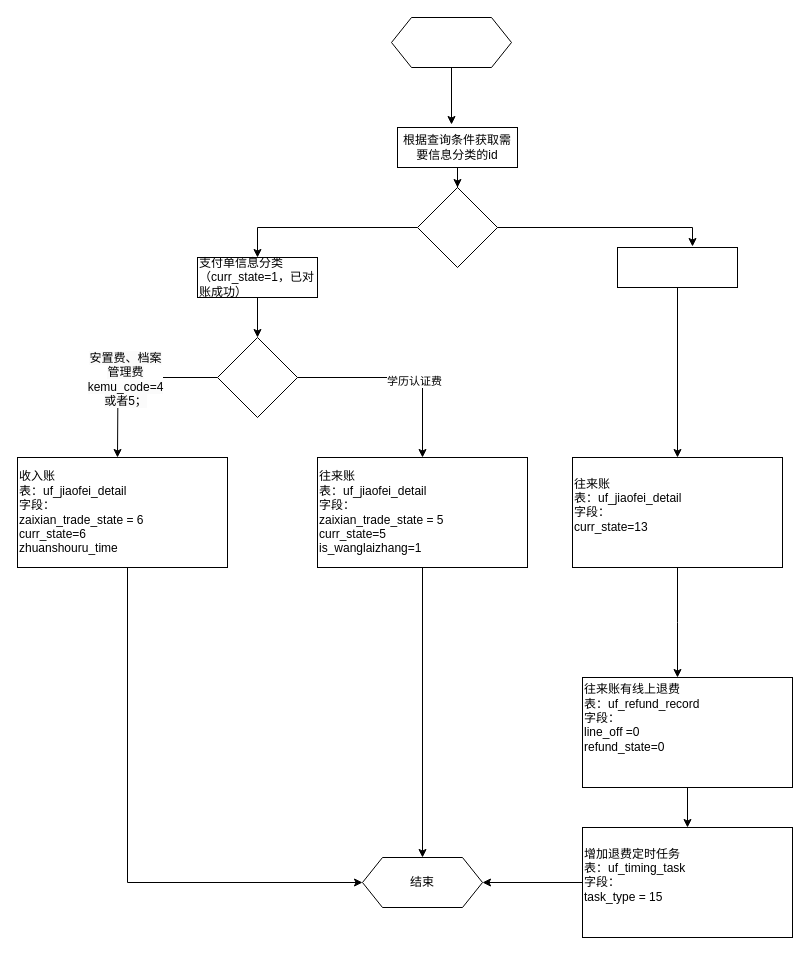
Some shapes in this 810 by 955 pixel diagram are drawn without their labels. Each missing label, with the box of its shape:
开始: (390, 16, 512, 68)
支付单当前对账状态: (416, 186, 498, 268)
支付单科目类型kemu_code: (216, 336, 298, 418)
退费信息分类（curr_state=10，退费对账成功）: (616, 246, 738, 288)
